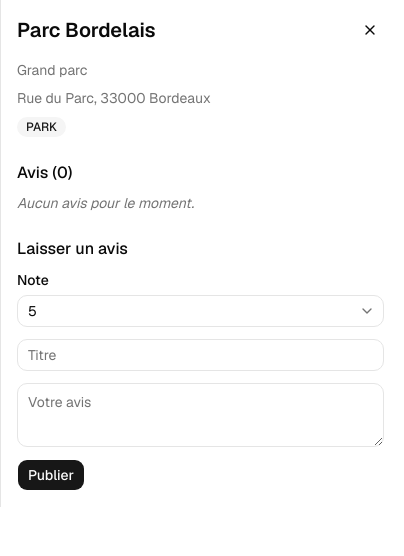
Scenario: LocationDetailPanel › shows a server error message when the post fails
Expected: the heading "Parc Bordelais" is shown, [17, 16, 156, 44]
Type "x" into the field with placeholder "Titre". click: (200, 355)
box: [17, 339, 384, 371]
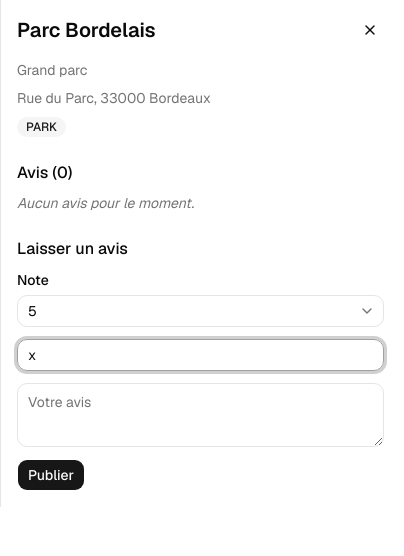
Type "y" into the text box with placeholder "Votre avis". click: (200, 415)
box: [17, 383, 384, 447]
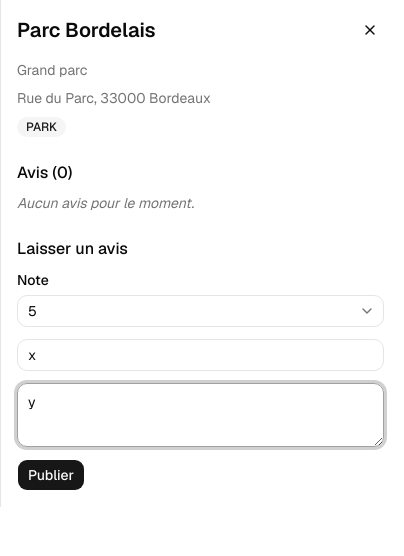
Click the button "Publier". click: (51, 475)
box: [17, 459, 85, 491]
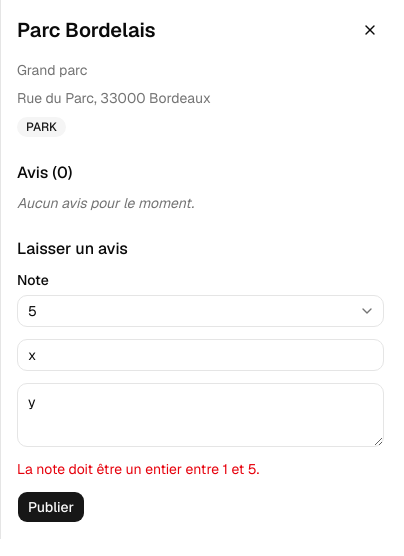
Expected: the text "La note doit être un entier entre 1 et 5." is shown, [17, 460, 259, 478]
